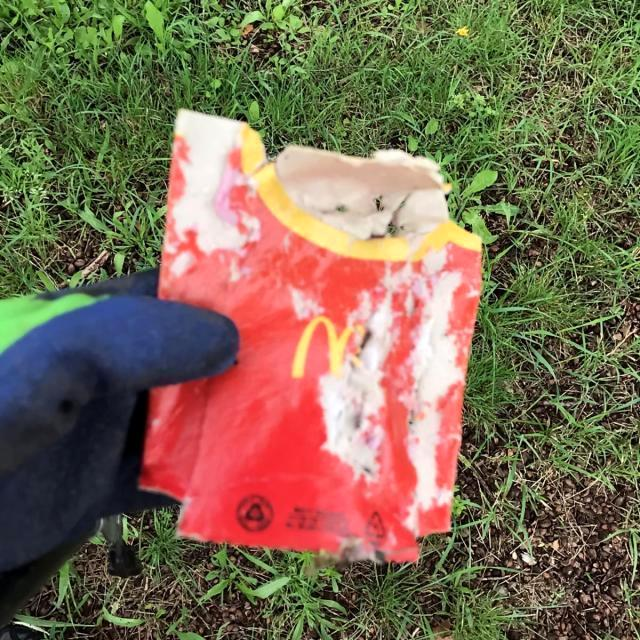Paper: (137, 105, 489, 568)
